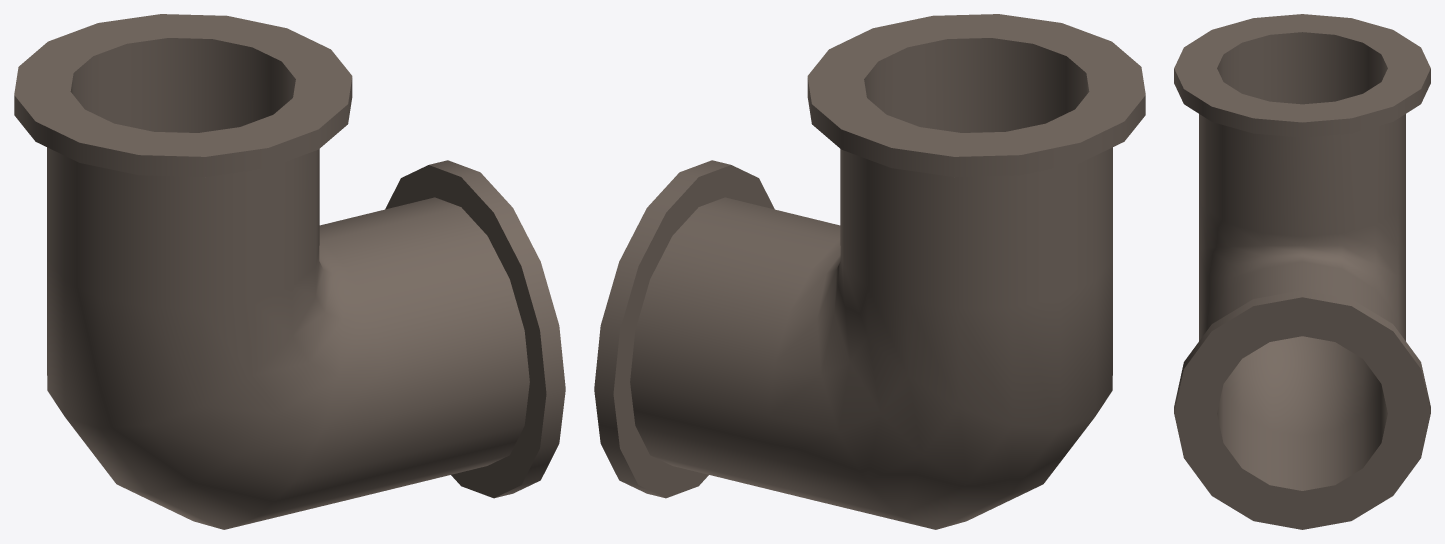
The model's file is pipe_corner_1.fbx.
3 views of the same model, side by side, from view 1: azimuth 30°, elevation 25°; view 2: azimuth 150°, elevation 25°; view 3: azimuth 270°, elevation 25° (orthographic). The views are drawn at different scales.
Parts seen in each view (by area): view 1: pipe_corner_1; view 2: pipe_corner_1; view 3: pipe_corner_1.
Part boxes in pixels (x1,y1,x2,y2): pipe_corner_1: (14, 14, 565, 529); pipe_corner_1: (594, 14, 1145, 529); pipe_corner_1: (1174, 14, 1430, 529).
Bounding box in the file's own units: 374 × 376 × 248.
